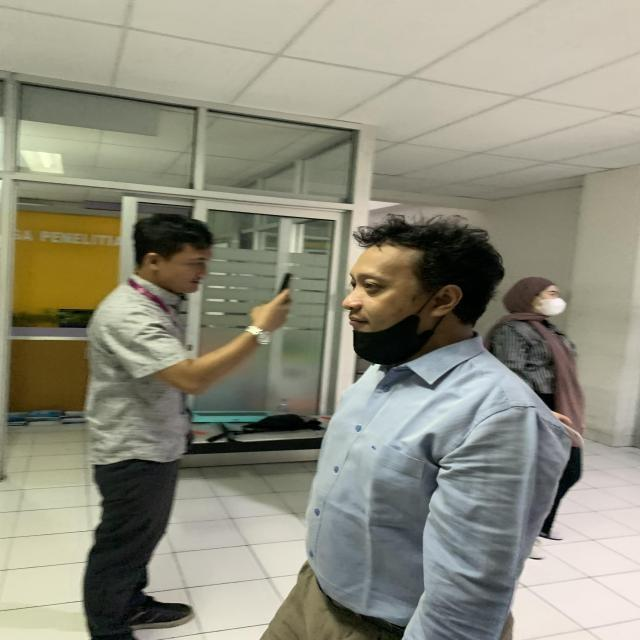hairnet: (340, 220, 494, 364)
